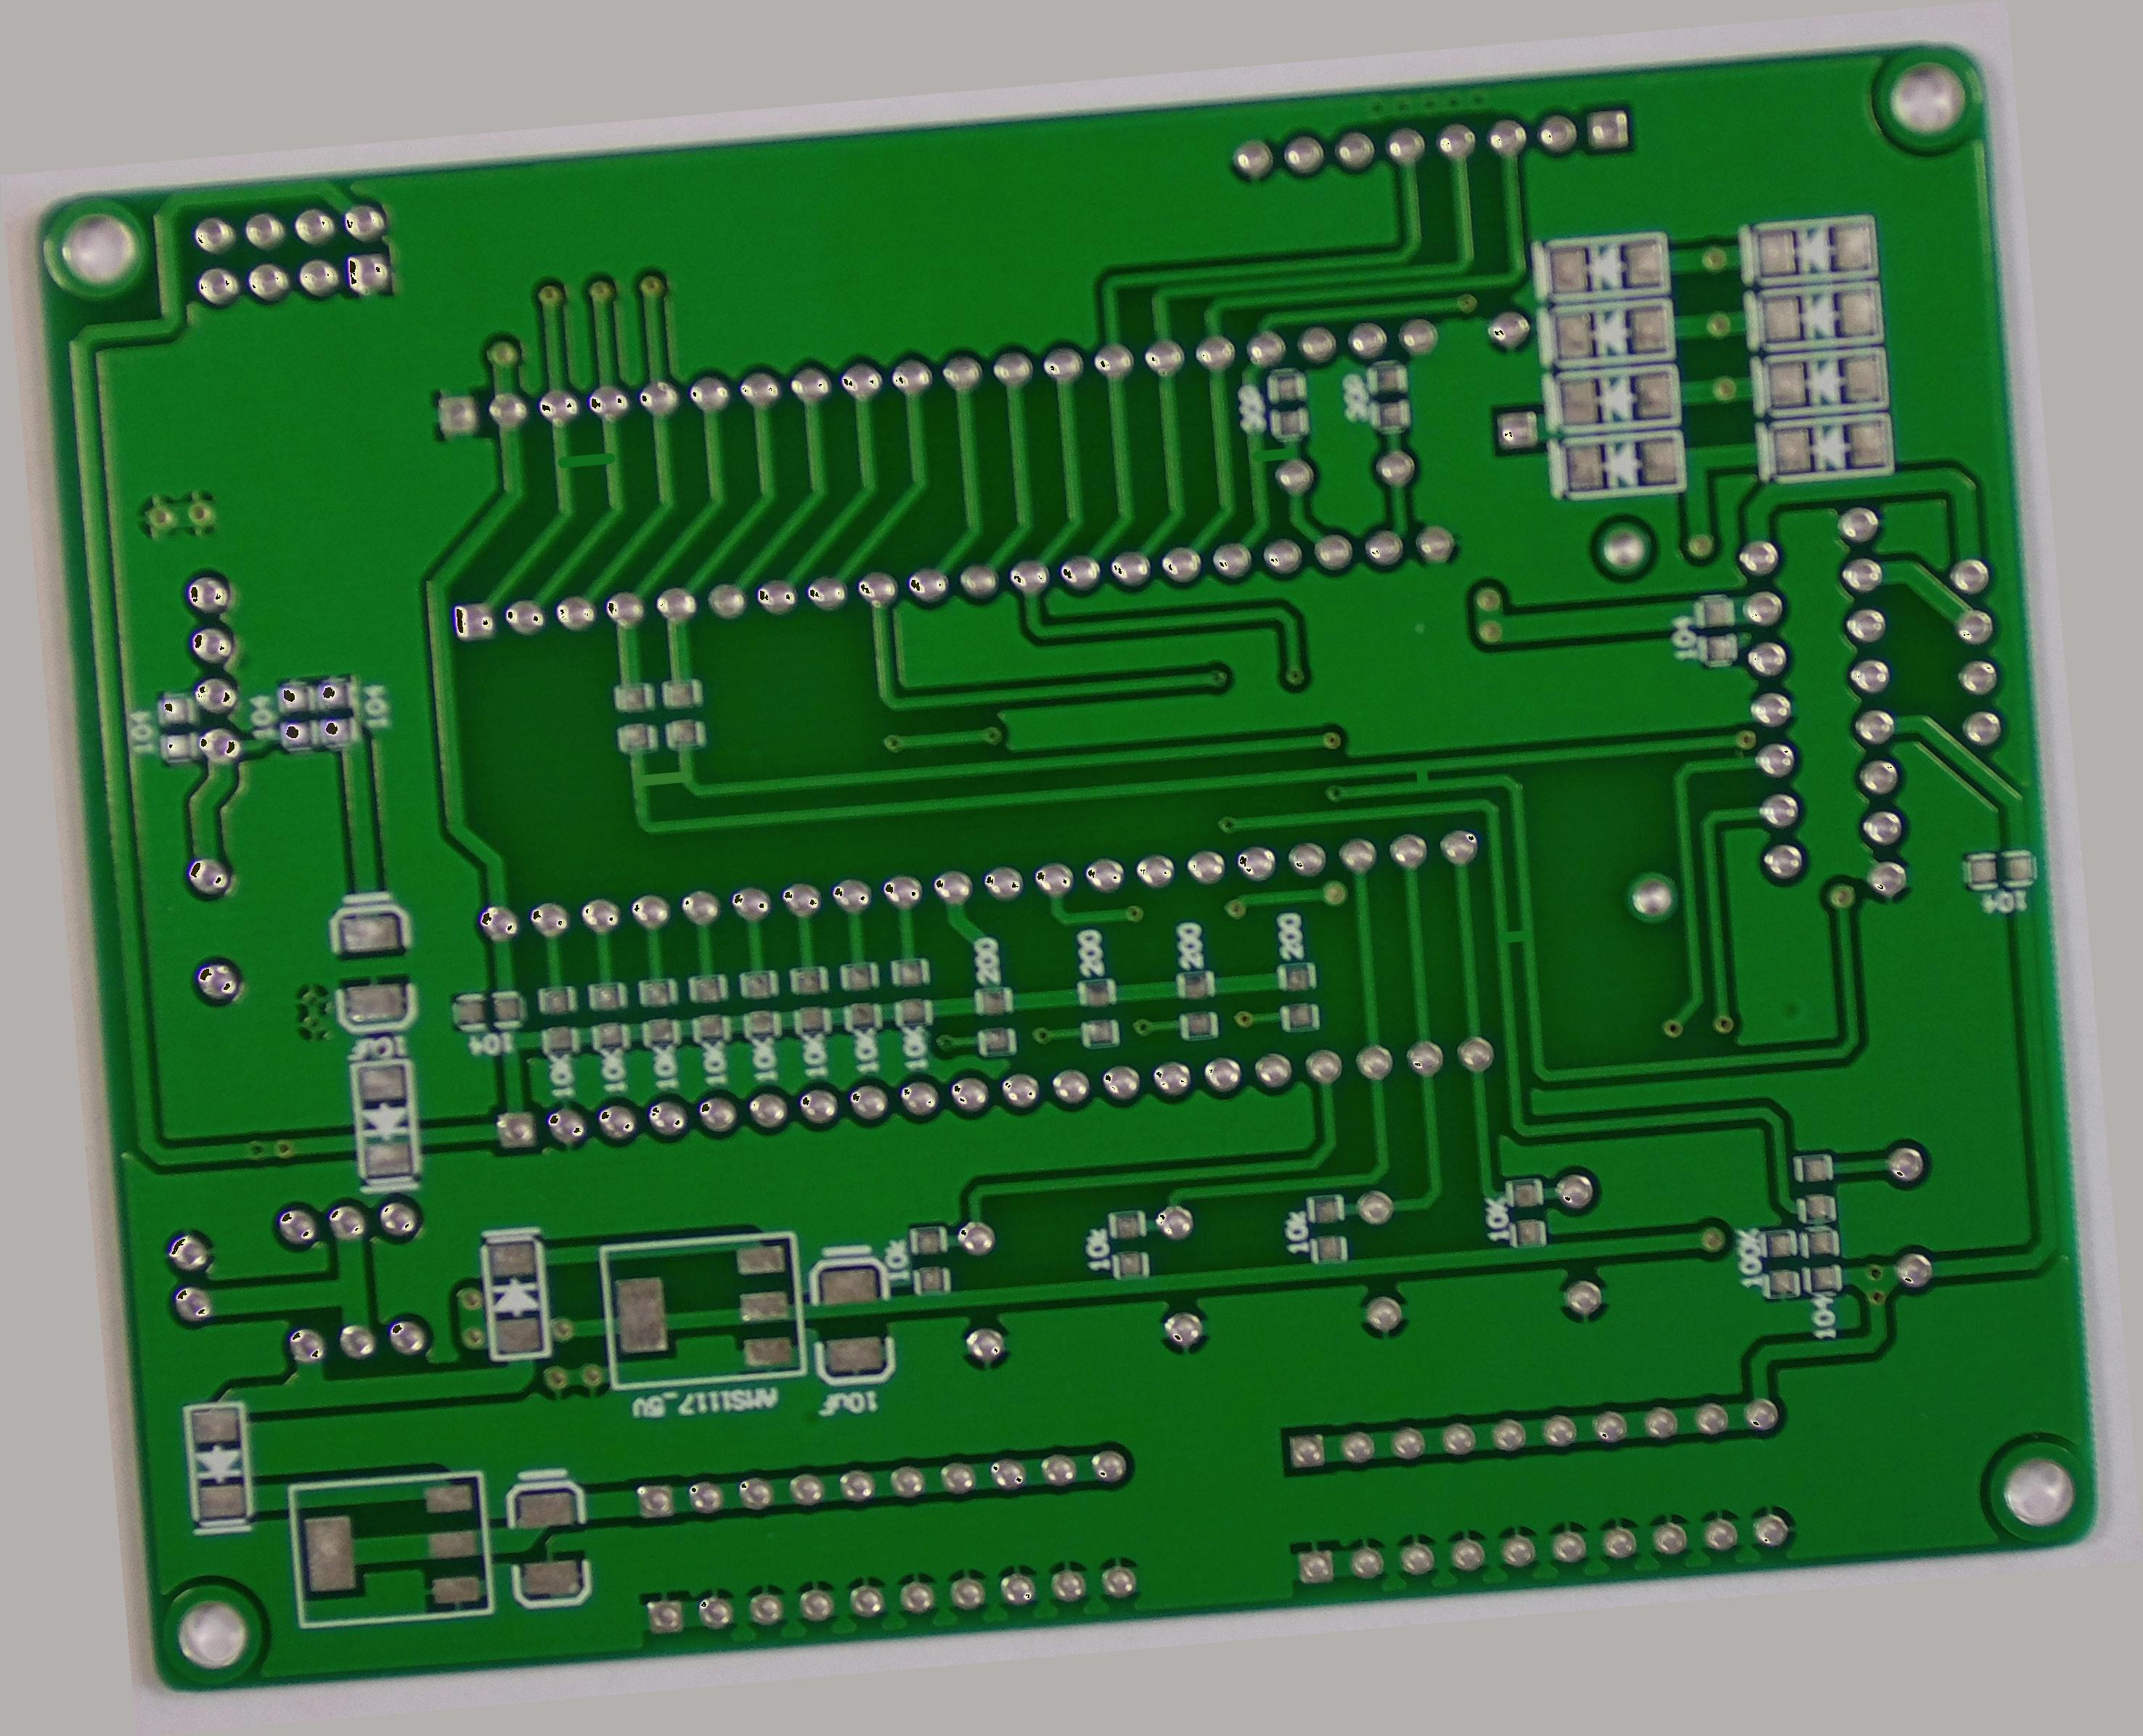short: (615, 755, 703, 806), (544, 436, 625, 484), (1240, 425, 1312, 478), (1484, 914, 1544, 960), (1394, 749, 1447, 794)
